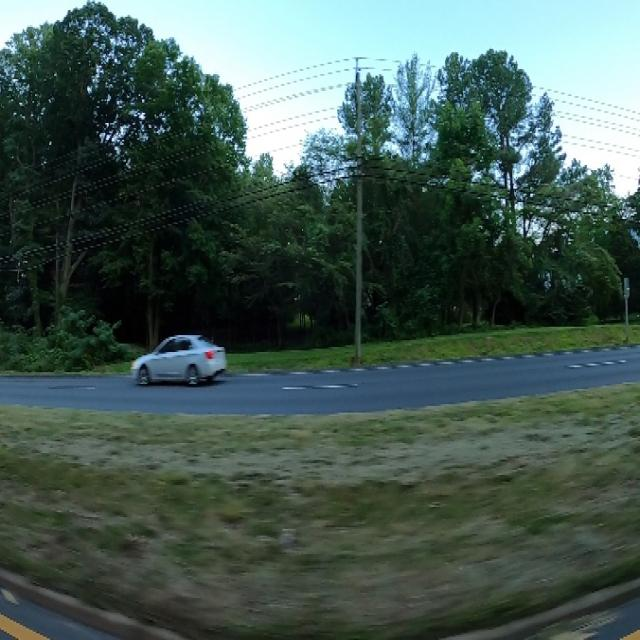car: (129, 322, 237, 398)
